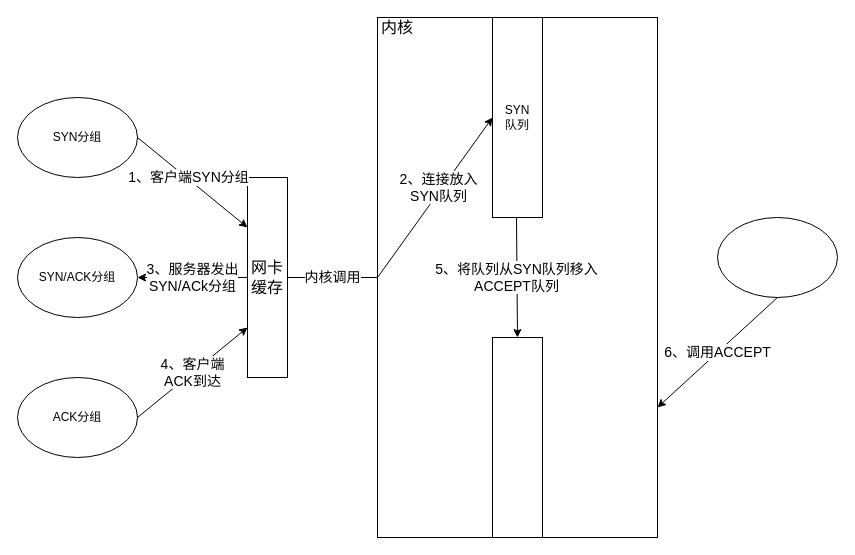
This 855x555 diagram has some shape labels left out. The box of each missing label's shape, as (x1, y1, x2, y2) in pixels:
ACCEPT 队列: (492, 336, 542, 538)
用户进程: (716, 216, 838, 298)
